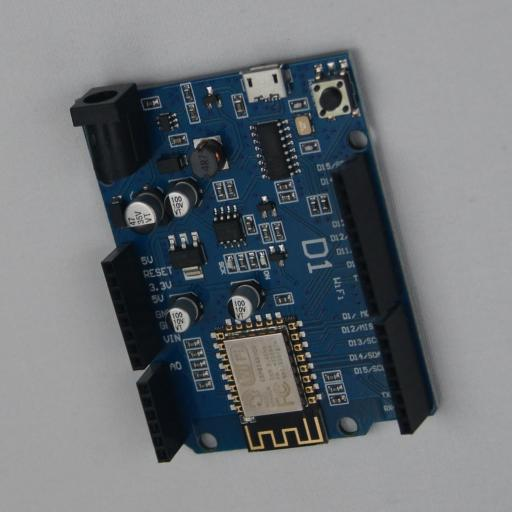Arduino Uno WiFi Shield: (70, 50, 441, 463)
